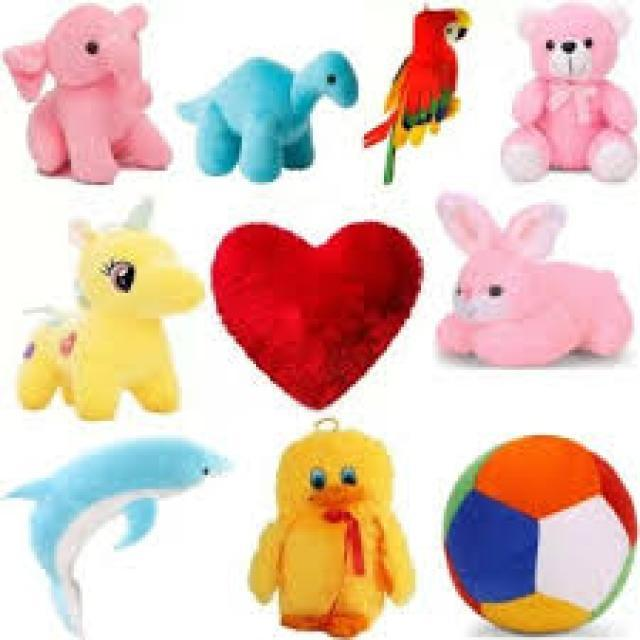soft-toy: (9, 439, 229, 635), (20, 200, 205, 420), (214, 222, 422, 410), (446, 436, 637, 634), (252, 431, 415, 637), (439, 195, 634, 367), (5, 6, 171, 185), (180, 52, 359, 183), (504, 6, 637, 182), (365, 11, 471, 184)
